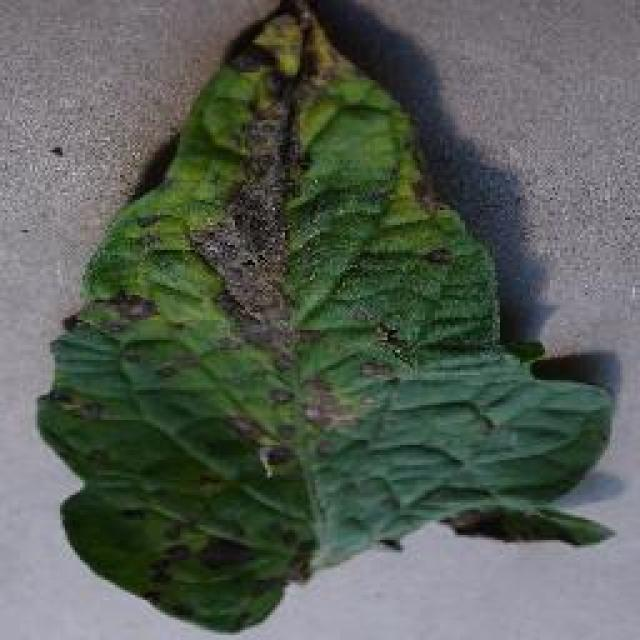Tomato___Early_blight: (27, 0, 621, 638)
